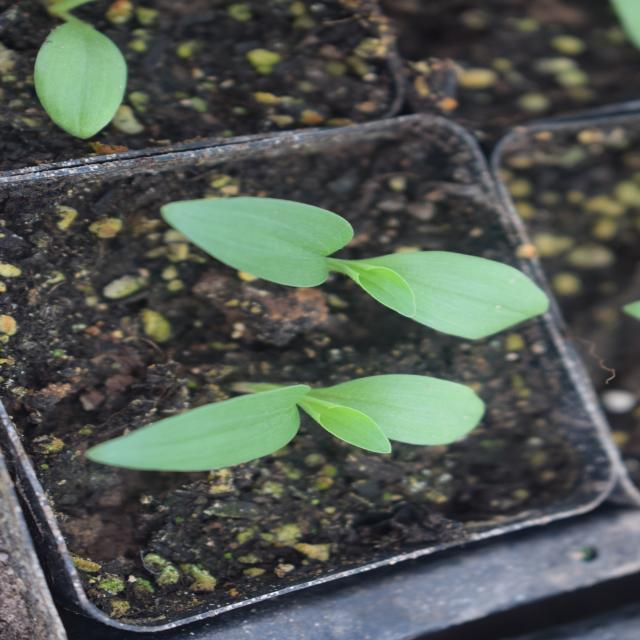Common Dayflower: (165, 86, 341, 468), (355, 144, 485, 528)
